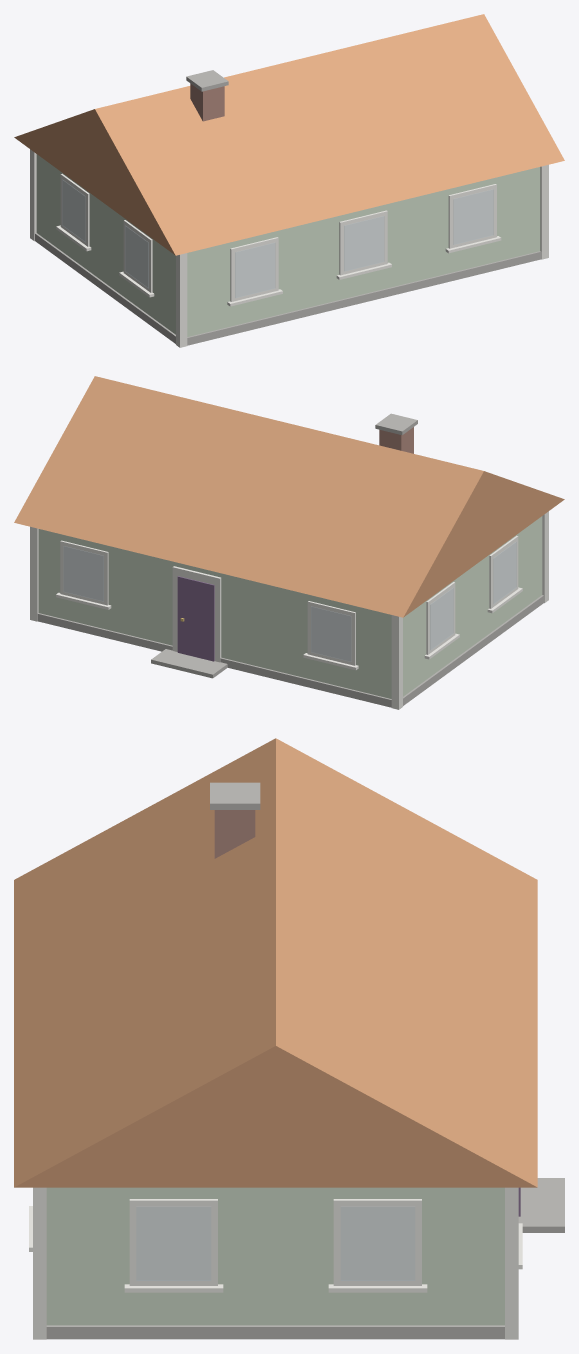
Rendered from house_small_c.glb.
The picture shows the model from 3 angles, top to bottom: view 1: azimuth 30°, elevation 25°; view 2: azimuth 150°, elevation 25°; view 3: azimuth 270°, elevation 25°; orthographic projection. The views are drawn at different scales.
Visible parts, largest first — view 1: roof, body; view 2: roof, body; view 3: roof, body.
Part boxes in pixels (x1,y1,x2,y2): roof: (14,14,564,255); body: (30,149,548,347); roof: (14,376,564,617); body: (30,511,548,709); roof: (14,738,537,1187); body: (29,1178,564,1339).
Bounding box in the file's own units: 10.7 × 5.29 × 8.1.
